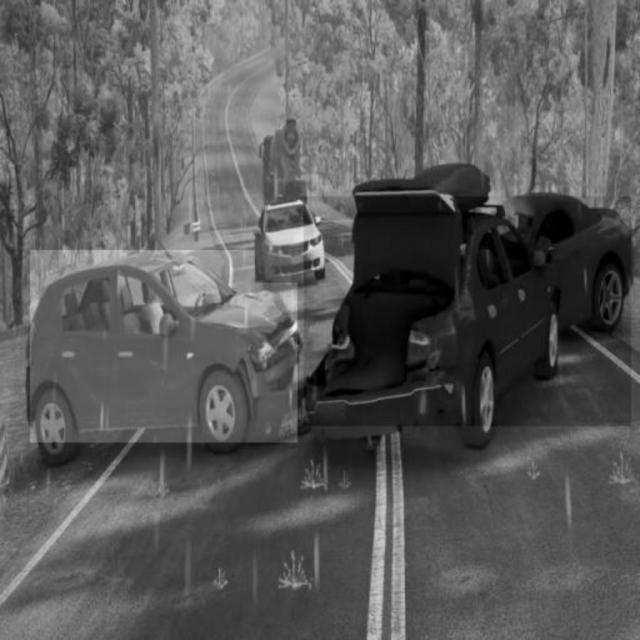accident: (304, 197, 631, 427)
vehicle: (30, 251, 298, 443), (255, 200, 326, 283)
